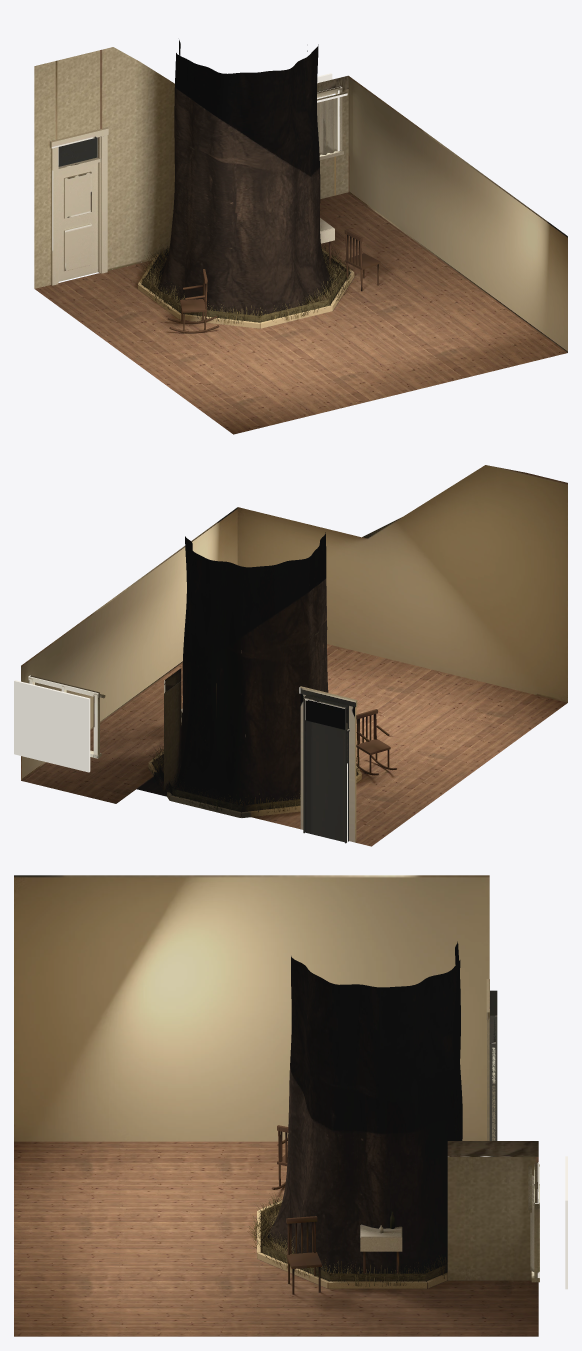
The model's file is muir-hutchings-house.glb.
3 renders of one model, top to bottom at view 1: azimuth 30°, elevation 25°; view 2: azimuth 150°, elevation 25°; view 3: azimuth 270°, elevation 25°, orthographic. The views are drawn at different scales.
Visible parts, largest first — view 1: floor, artifact_cedar_trunk, plain_walls, papered_walls, artifact_door, grass_blades, bed_edging, grass_band, artifact_lace_curtains, artifact_rocking_chair, side_chair, window_frame (+1 smaller); view 2: plain_walls, artifact_cedar_trunk, floor, artifact_door, daylight_window, papered_walls, grass_blades, bed_edging, artifact_rocking_chair, grass_band, window_frame; view 3: plain_walls, floor, artifact_cedar_trunk, papered_walls, grass_blades, bed_edging, artifact_door, frieze, grass_band, side_chair, artifact_table, window_frame.
Boxes of the visible parts, x1,y1,x2,y2 form: floor: [35, 192, 567, 434]; artifact_cedar_trunk: [157, 40, 332, 315]; plain_walls: [348, 76, 567, 352]; papered_walls: [34, 47, 348, 288]; artifact_door: [50, 127, 108, 285]; grass_blades: [137, 242, 352, 323]; bed_edging: [138, 248, 354, 328]; grass_band: [142, 267, 349, 322]; artifact_lace_curtains: [317, 98, 337, 155]; artifact_rocking_chair: [167, 269, 219, 333]; side_chair: [344, 229, 380, 291]; window_frame: [317, 86, 347, 159]; plain_walls: [21, 465, 567, 780]; artifact_cedar_trunk: [177, 532, 328, 805]; floor: [21, 644, 567, 846]; artifact_door: [299, 686, 357, 843]; daylight_window: [14, 680, 90, 772]; papered_walls: [164, 681, 181, 795]; grass_blades: [150, 746, 360, 812]; bed_edging: [148, 751, 361, 817]; artifact_rocking_chair: [356, 709, 396, 775]; grass_band: [153, 757, 356, 812]; window_frame: [28, 675, 105, 758]; plain_walls: [14, 875, 489, 1141]; floor: [14, 1141, 538, 1336]; artifact_cedar_trunk: [267, 941, 462, 1273]; papered_walls: [447, 1157, 538, 1280]; grass_blades: [247, 1191, 447, 1286]; bed_edging: [257, 1200, 447, 1288]; artifact_door: [486, 979, 497, 1140]; frieze: [447, 1141, 538, 1156]; grass_band: [262, 1245, 447, 1281]; side_chair: [286, 1216, 321, 1294]; artifact_table: [360, 1224, 402, 1251]; window_frame: [528, 1162, 539, 1282].
Size of the model in its own units: 6.6 by 4.55 by 7.92.
4 materials, 3 textured.
